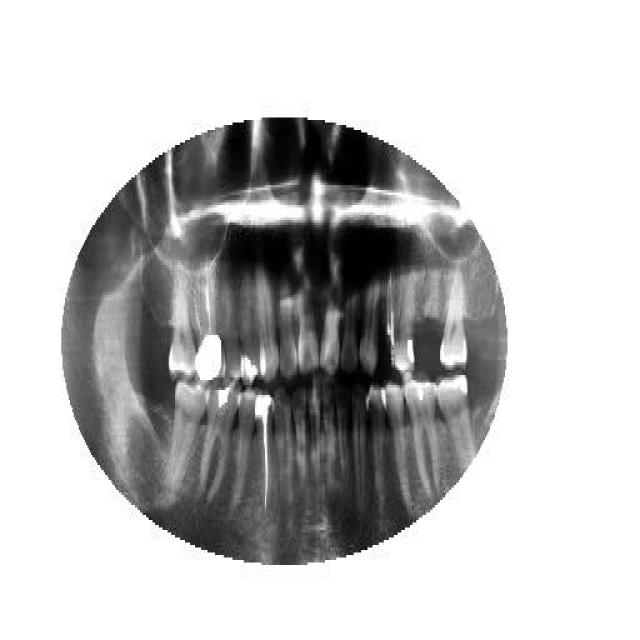Fillings: (199, 382, 241, 500), (404, 378, 438, 500), (435, 375, 477, 473)
Implant: (189, 252, 225, 388), (255, 392, 276, 518)
